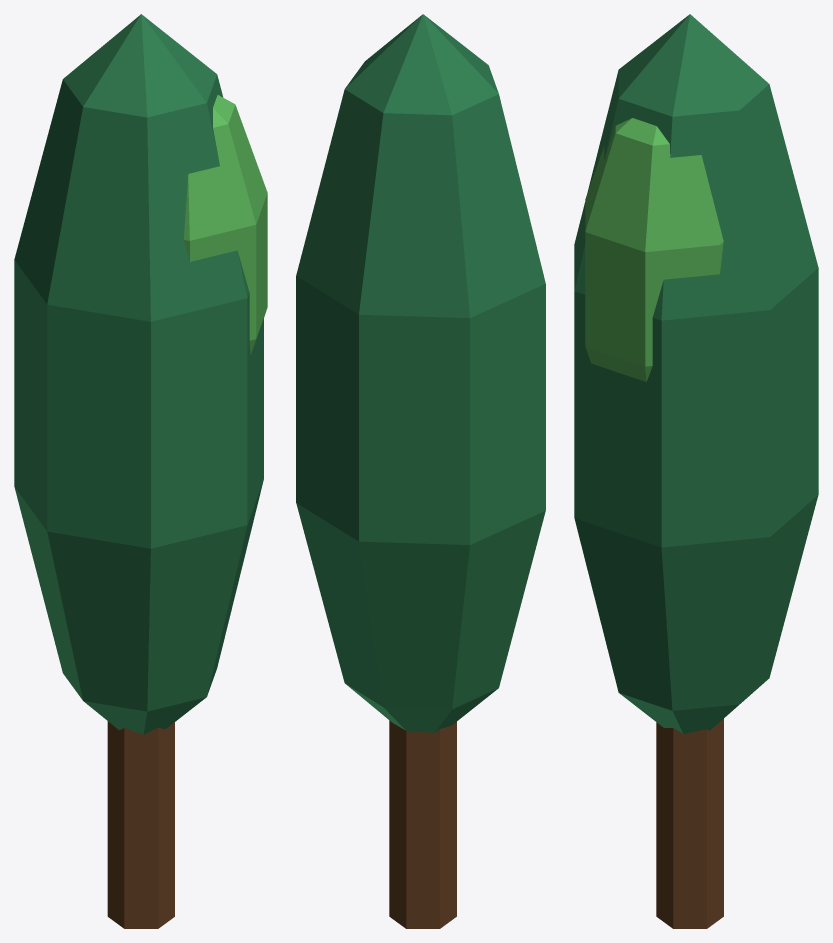
File: mdl_z2_alamo.fbx
The picture shows the model from 3 angles, left to right: view 1: azimuth 30°, elevation 25°; view 2: azimuth 150°, elevation 25°; view 3: azimuth 270°, elevation 25°; orthographic projection.
Visible parts, largest first — view 1: mdl_z2_alamo; view 2: mdl_z2_alamo; view 3: mdl_z2_alamo.
Boxes of the visible parts, x1,y1,x2,y2 form: mdl_z2_alamo: (14,14,267,928); mdl_z2_alamo: (296,14,545,928); mdl_z2_alamo: (574,14,818,928).
Bounding box in the file's own units: 297 × 1180 × 289.
